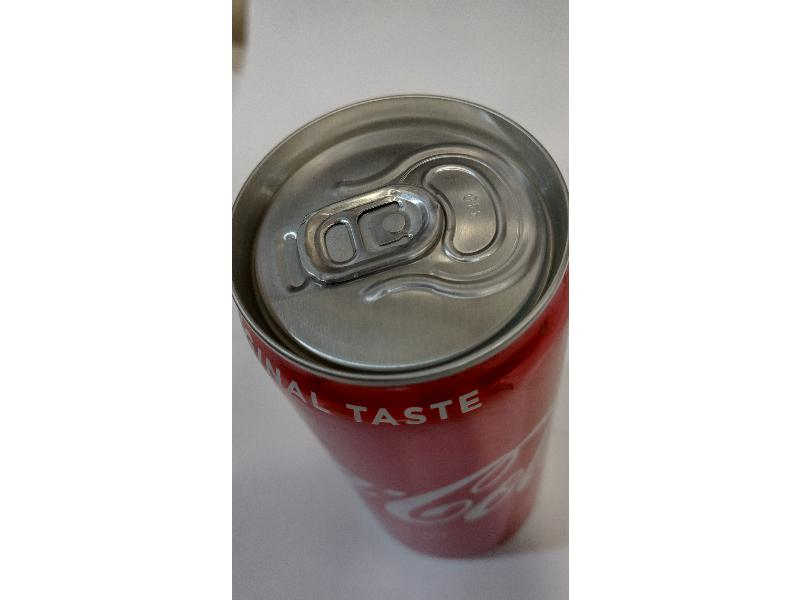can: (234, 92, 567, 568)
